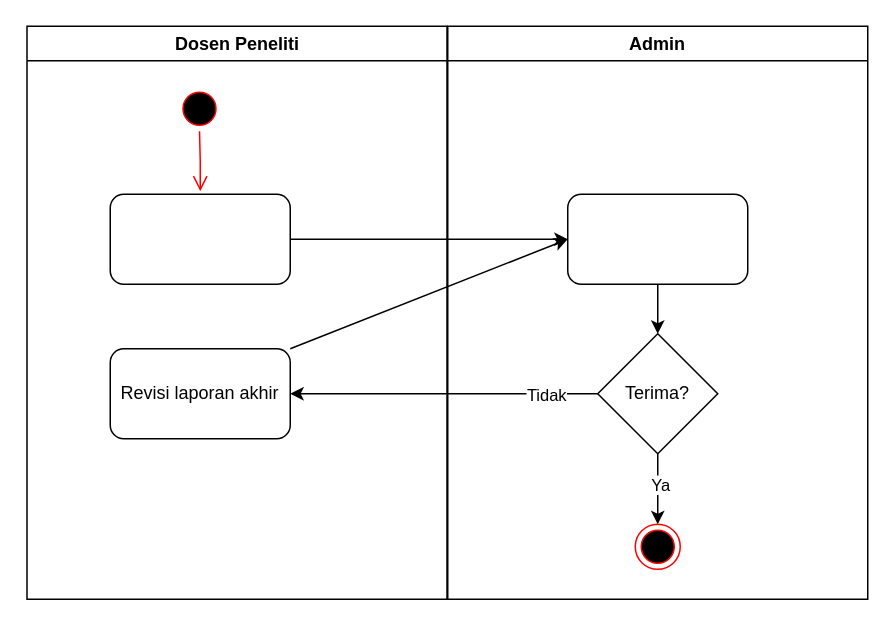
Image size: 894x626. Some labels were removed from this diagram. Each missing label, with the box of its shape:
Mengupload dokumen laporan akhir: (109, 193, 290, 284)
Mereview laporan akhir dan memberi keputusan: (566, 193, 748, 284)
